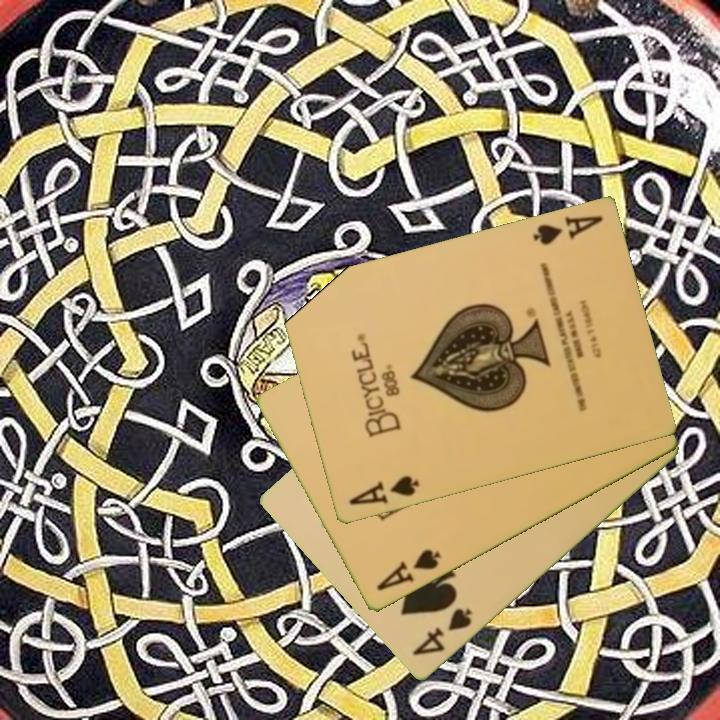4s: (409, 605, 475, 660)
As: (372, 545, 444, 595), (345, 472, 422, 509), (529, 212, 606, 249)
